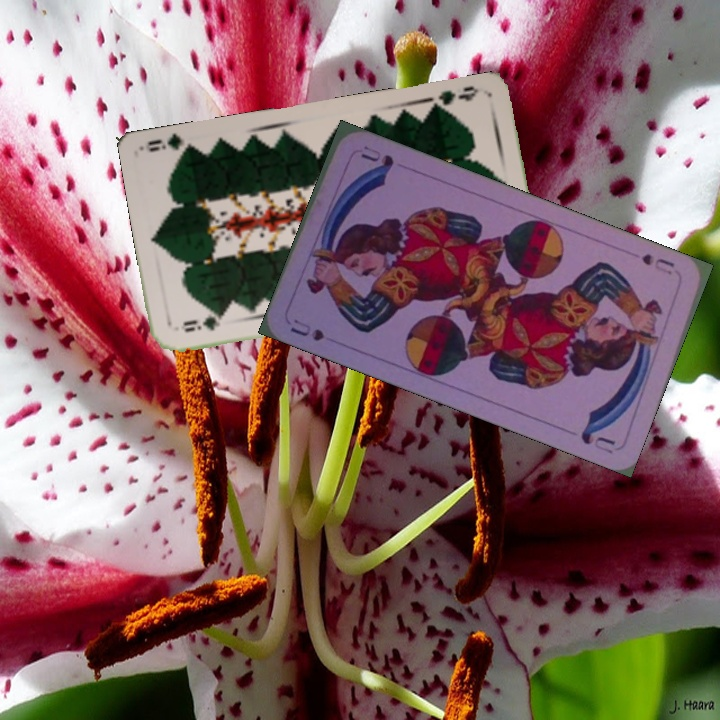G9: (430, 81, 481, 114), (178, 311, 228, 335)
SU: (286, 314, 327, 344), (637, 249, 677, 278)
